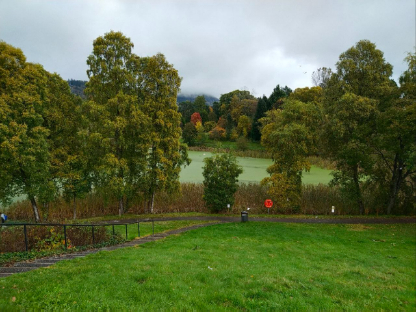tree: (297, 18, 416, 202), (85, 28, 198, 213), (0, 30, 85, 219), (262, 127, 307, 211), (197, 143, 246, 209)
